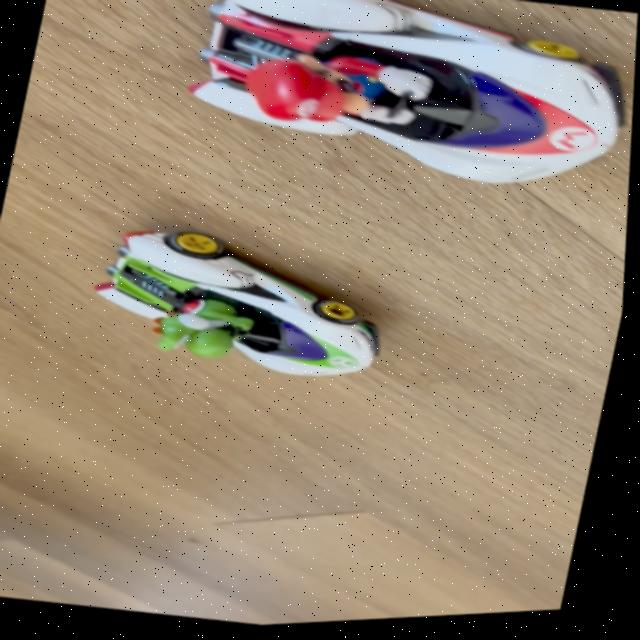mario: (146, 0, 640, 236)
yoshi: (87, 221, 421, 414)
